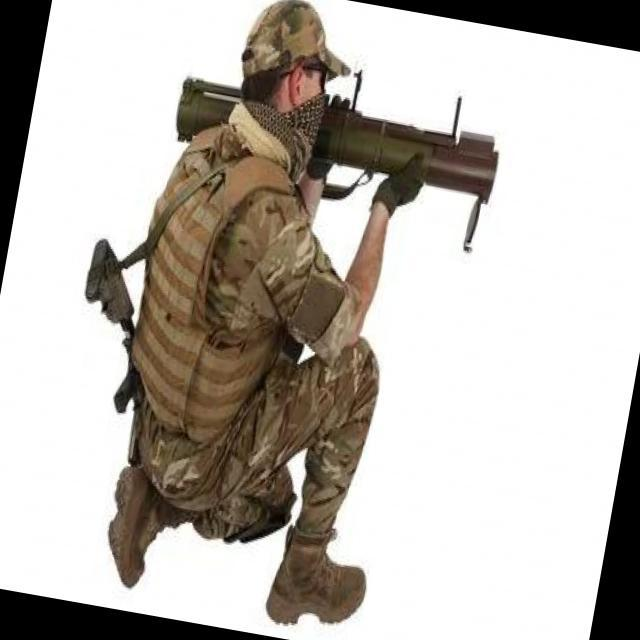rocket: (167, 66, 508, 220)
